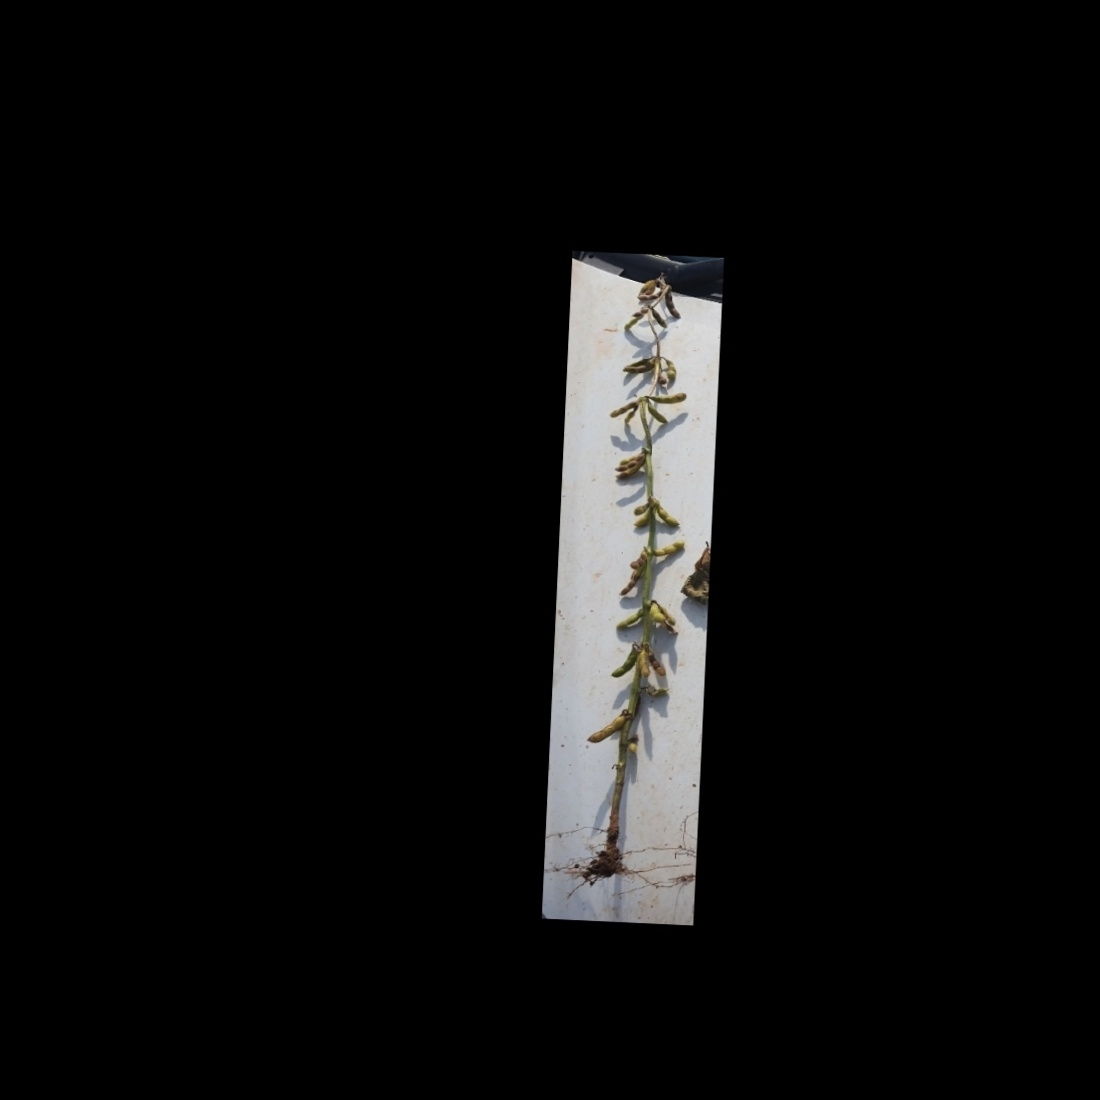pod: (585, 711, 626, 746), (609, 642, 639, 679), (614, 602, 647, 631), (618, 566, 644, 598), (648, 388, 690, 407), (653, 502, 682, 527), (644, 648, 669, 676), (652, 539, 686, 559), (663, 288, 682, 320), (608, 398, 638, 418), (647, 403, 671, 425), (635, 289, 666, 302), (637, 647, 649, 680), (651, 307, 668, 329), (661, 357, 678, 379), (622, 404, 639, 424)
soy: (573, 261, 701, 896)
